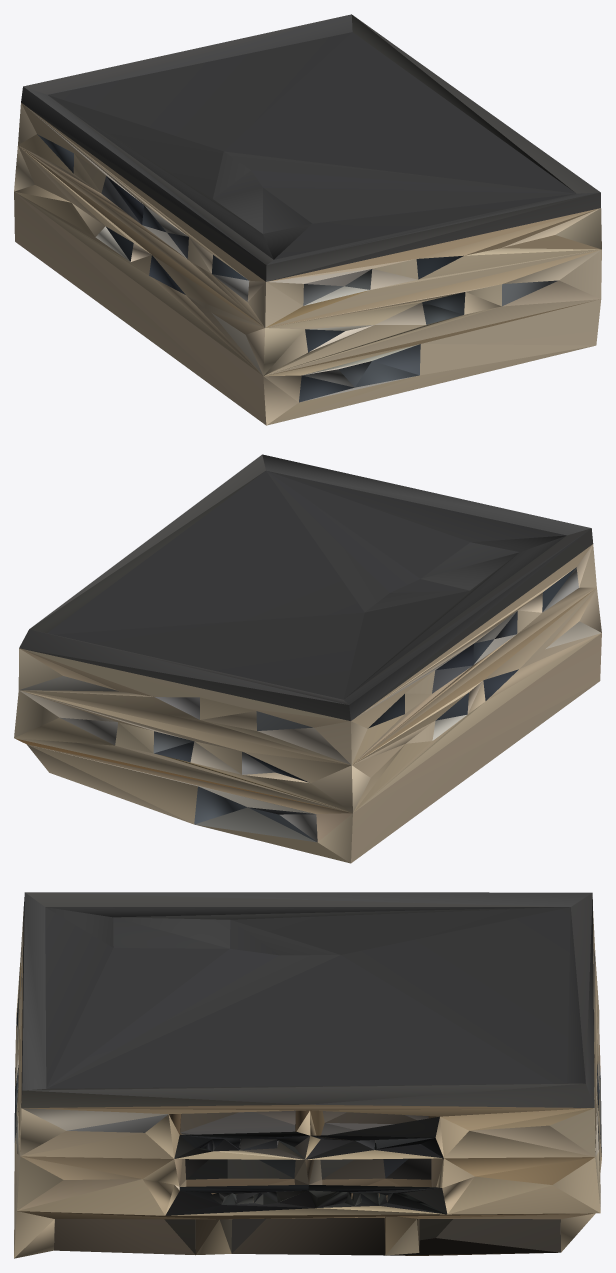
Rendered from apartment-small.glb.
3 views of the same model, one above another, from view 1: azimuth 30°, elevation 25°; view 2: azimuth 150°, elevation 25°; view 3: azimuth 270°, elevation 25° (orthographic). The views are drawn at different scales.
Parts seen in each view (by area): view 1: apartment-small_LOD0; view 2: apartment-small_LOD0; view 3: apartment-small_LOD0.
Boxes of the visible parts, x1,y1,x2,y2 form: apartment-small_LOD0: (14,14,601,425); apartment-small_LOD0: (14,454,601,863); apartment-small_LOD0: (14,892,601,1258).
Size of what is drawn, in the model's own units: 20 by 8.68 by 25.
